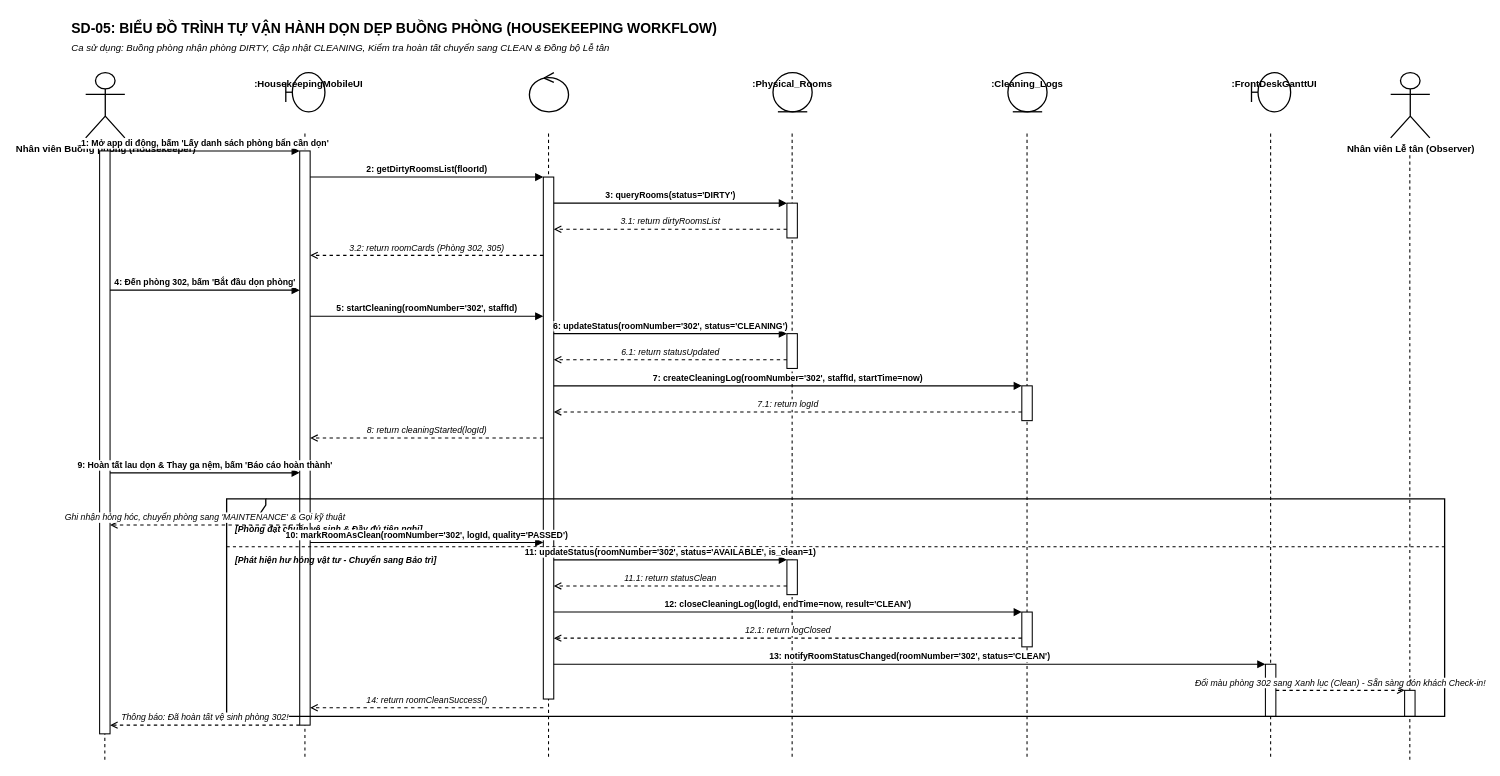
This 1500x776 diagram has some shape labels left out. Each missing label, with the box of its shape:
:RoomCleaningService: (528, 72, 569, 112)
alt: (226, 498, 1445, 717)
